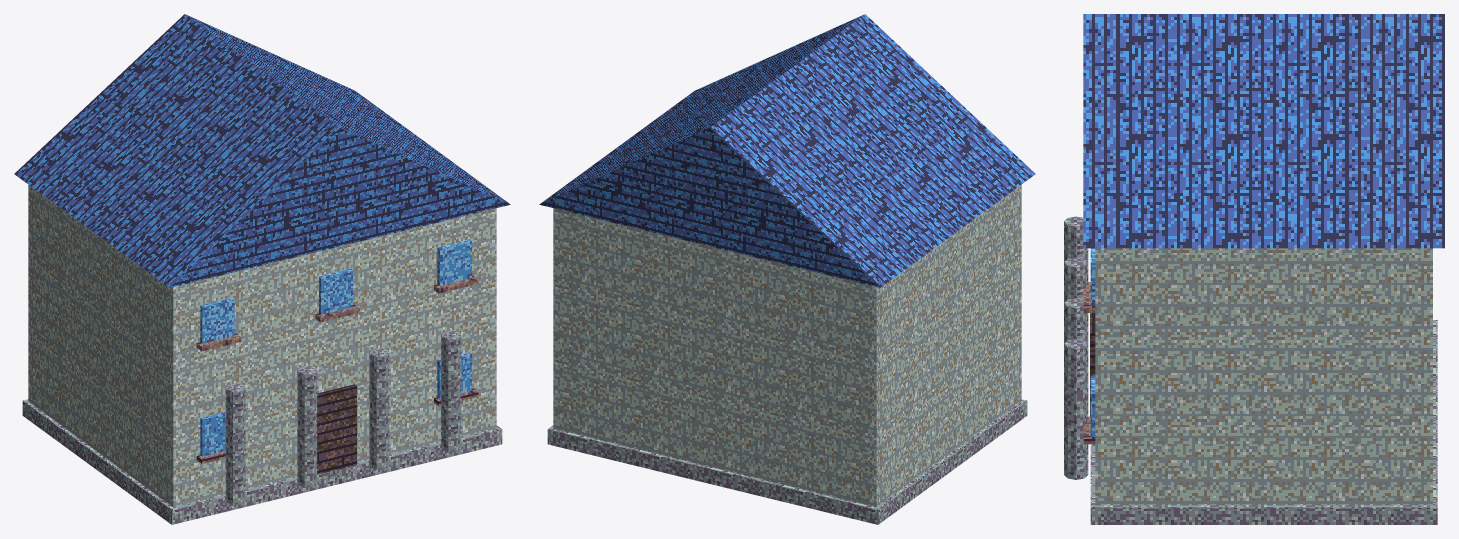
File: biblioteca.glb
The picture shows the model from 3 angles, left to right: view 1: azimuth 30°, elevation 25°; view 2: azimuth 150°, elevation 25°; view 3: azimuth 270°, elevation 25°; orthographic projection. The views are drawn at different scales.
Visible parts, largest first — view 1: biblioteca; view 2: biblioteca; view 3: biblioteca.
Boxes of the visible parts, x1,y1,x2,y2 form: biblioteca: [14, 14, 510, 524]; biblioteca: [539, 14, 1035, 524]; biblioteca: [1064, 14, 1444, 524].
Size of the model in its own units: 9.5 by 9.55 by 7.9.
6 materials, 6 textured.
